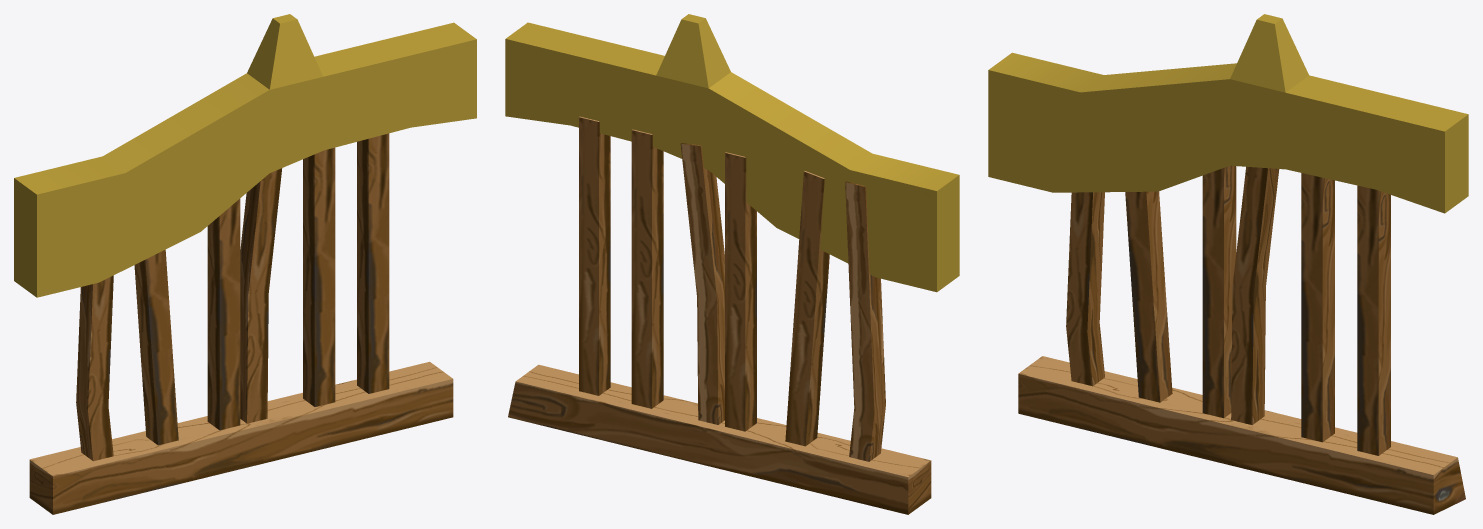
Rendered from Western_Left_Gate.fbx.
3 views of the same model, side by side, from view 1: azimuth 30°, elevation 25°; view 2: azimuth 150°, elevation 25°; view 3: azimuth 330°, elevation 25° (orthographic). The views are drawn at different scales.
Visible parts, largest first — view 1: Western_left_Gate; view 2: Western_left_Gate; view 3: Western_left_Gate.
Boxes of the visible parts, x1,y1,x2,y2 form: Western_left_Gate: [14, 14, 476, 514]; Western_left_Gate: [505, 14, 959, 514]; Western_left_Gate: [988, 14, 1468, 514].
Size of the model in its own units: 350 by 331 by 41.04.
